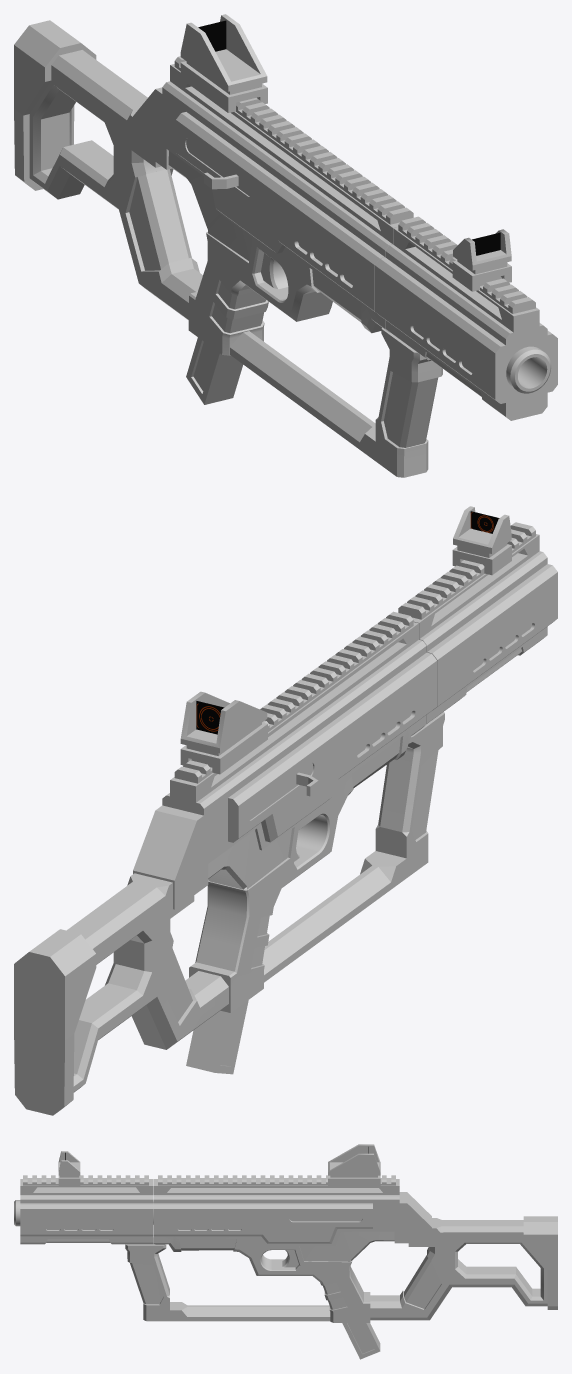
3 renders of one model, top to bottom at view 1: azimuth 30°, elevation 25°; view 2: azimuth 150°, elevation 25°; view 3: azimuth 270°, elevation 25°, orthographic. The views are drawn at different scales.
Parts seen in each view (by area): view 1: GunBodyModel, GunStockModel, BodyExtensionModel, BodyGripModel, SightModel, RailModel, Rail2Model, AmmoCartridgeModel, Sight2Model, ChamberCapsuleModel, GunTriggerModel, HoloSightModel; view 2: GunBodyModel, GunStockModel, BodyExtensionModel, BodyGripModel, RailModel, SightModel, AmmoCartridgeModel, Rail2Model, Sight2Model, ChamberCapsuleModel; view 3: GunBodyModel, GunStockModel, BodyExtensionModel, BodyGripModel, SightModel, RailModel, Rail2Model, AmmoCartridgeModel, Sight2Model.
Boxes of the visible parts, box(x1,y1,x2,y2) form: GunBodyModel: box(133, 64, 399, 355); GunStockModel: box(14, 20, 202, 319); BodyExtensionModel: box(375, 227, 557, 420); BodyGripModel: box(230, 327, 442, 477); SightModel: box(180, 14, 267, 112); RailModel: box(174, 56, 413, 224); Rail2Model: box(398, 216, 535, 313); AmmoCartridgeModel: box(186, 337, 243, 404); Sight2Model: box(452, 229, 511, 291); ChamberCapsuleModel: box(186, 138, 251, 196); GunTriggerModel: box(261, 253, 288, 289); HoloSightModel: box(198, 20, 226, 51); GunBodyModel: box(133, 622, 437, 1012); GunStockModel: box(14, 873, 228, 1115); BodyExtensionModel: box(412, 534, 557, 723); BodyGripModel: box(262, 712, 444, 982); RailModel: box(174, 611, 413, 783); SightModel: box(180, 691, 267, 774); AmmoCartridgeModel: box(186, 1000, 248, 1074); Rail2Model: box(398, 522, 535, 619); Sight2Model: box(452, 506, 511, 575); ChamberCapsuleModel: box(247, 762, 318, 820); GunBodyModel: box(153, 1179, 431, 1322); GunStockModel: box(370, 1216, 557, 1320); BodyExtensionModel: box(14, 1179, 153, 1244); BodyGripModel: box(125, 1237, 330, 1321); SightModel: box(328, 1144, 380, 1187); RailModel: box(158, 1175, 395, 1185); Rail2Model: box(23, 1175, 148, 1185); AmmoCartridgeModel: box(342, 1323, 380, 1359); Sight2Model: box(58, 1151, 80, 1187).
Bounding box in the file's own units: 0.081 × 0.3422 × 0.8187.
